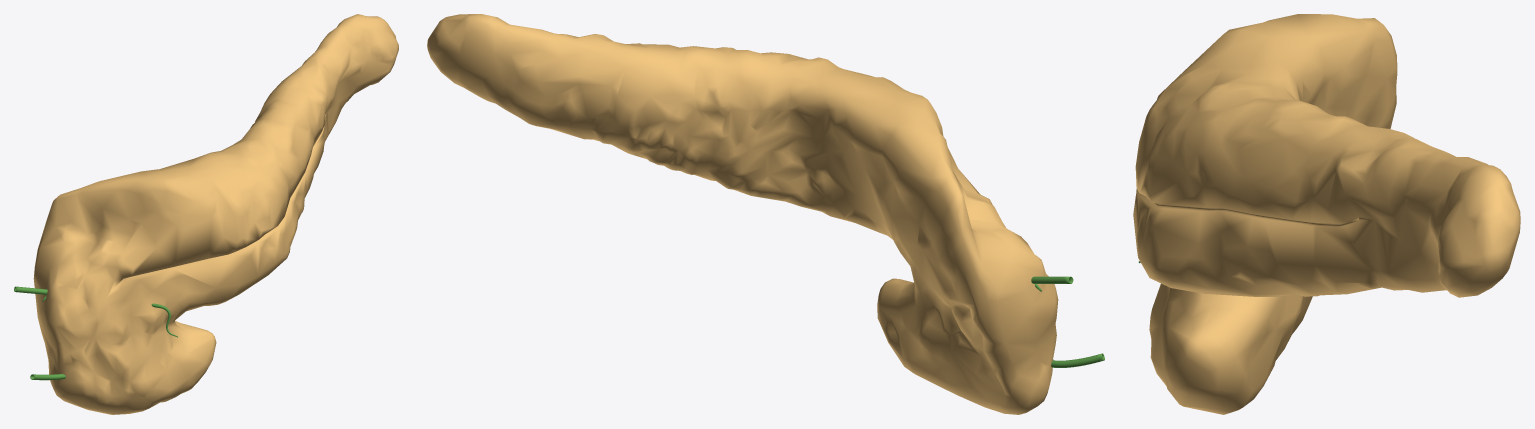
File: visceras-pancreas.glb
The picture shows the model from 3 angles, left to right: view 1: azimuth 30°, elevation 25°; view 2: azimuth 150°, elevation 25°; view 3: azimuth 270°, elevation 25°; orthographic projection. The views are drawn at different scales.
Parts seen in each view (by area): view 1: Pancreas, Accessory pancreatic duct; view 2: Pancreas; view 3: Pancreas.
Part boxes in pixels (box(x1,y1,x2,y2)): Pancreas: box(33, 14, 398, 414); Accessory pancreatic duct: box(14, 286, 177, 337); Pancreas: box(427, 14, 1058, 414); Pancreas: box(1133, 14, 1520, 414).
Bounding box in the file's own units: 0.1261 × 0.0737 × 0.0534.
